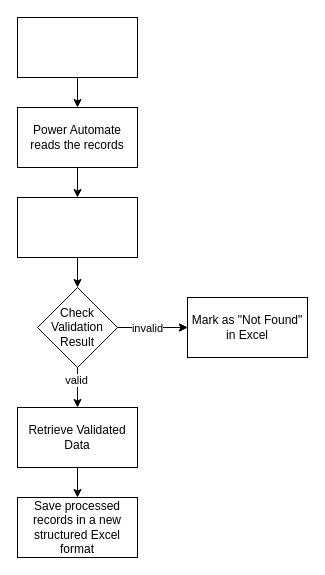
The diagram is 325 pixels wide and 575 high, and some of its shapes have lost their labels. Each missing label, with the centre of its shape:
Data is entered into the Tracer Website: pixel 77 227
Excel Data Set: pixel 77 47
